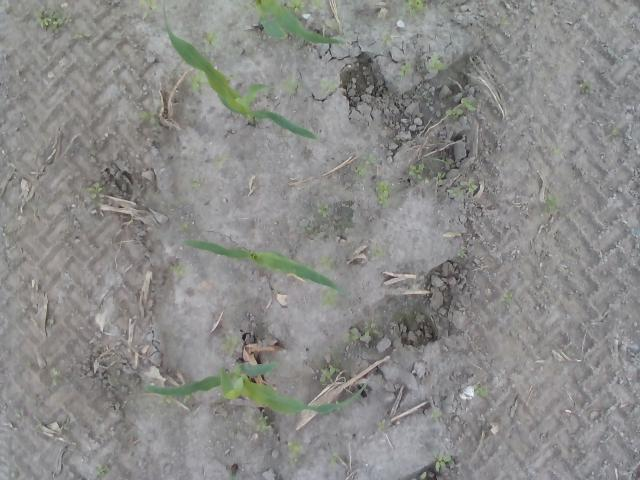Maize: (161, 7, 321, 144), (143, 361, 368, 418), (180, 239, 339, 290), (251, 0, 346, 46)
Weeds: (32, 6, 72, 32), (344, 319, 384, 343), (85, 180, 104, 208), (356, 153, 378, 177), (375, 179, 392, 209), (281, 74, 304, 96), (402, 0, 428, 18), (199, 30, 222, 50), (425, 54, 449, 73), (287, 439, 304, 465), (220, 336, 242, 356), (137, 110, 160, 128), (380, 25, 400, 45), (191, 70, 209, 92), (320, 77, 340, 96), (544, 190, 558, 216), (319, 254, 337, 273), (319, 367, 337, 385), (434, 454, 452, 472), (407, 162, 424, 180), (318, 201, 335, 219), (319, 288, 336, 306), (287, 0, 307, 15), (326, 16, 343, 33), (543, 145, 561, 161), (399, 62, 415, 80), (458, 96, 476, 112), (214, 152, 230, 168), (472, 384, 488, 399), (257, 415, 271, 432), (580, 78, 593, 96), (95, 464, 110, 478), (447, 186, 464, 198), (466, 176, 478, 193), (138, 0, 160, 9), (446, 108, 462, 120), (433, 172, 446, 186), (498, 292, 513, 304), (167, 264, 187, 273), (432, 154, 449, 164), (51, 367, 60, 385), (376, 418, 386, 434), (312, 0, 326, 10), (431, 410, 441, 424), (189, 177, 198, 191), (412, 472, 427, 480), (374, 246, 384, 257), (610, 127, 620, 137), (499, 17, 509, 27), (179, 223, 190, 232), (329, 456, 338, 466), (303, 223, 312, 232), (456, 249, 465, 257)
